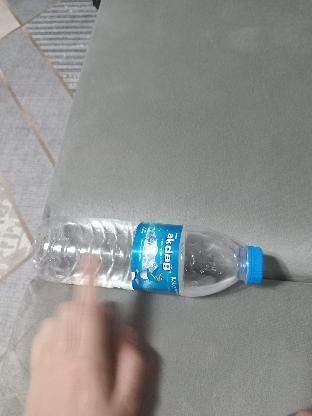Plastic Bottle: (36, 214, 272, 300)
